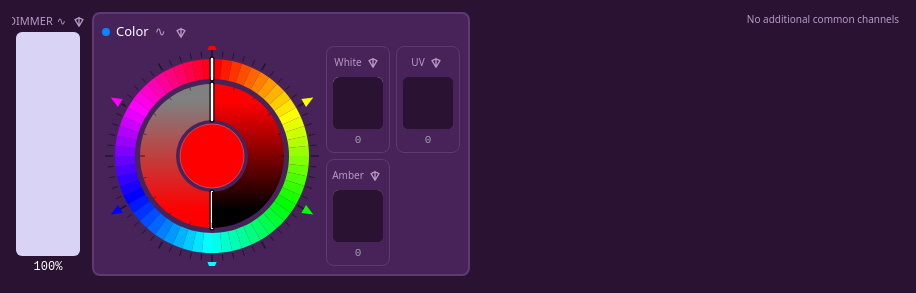
Test: Default colour (blue) and the Colour default menu › Set as Default stores the current colour, Load Default applies it, Reset Default restores blue
Later steps or results of the test are not shown.
Click the button named "Colour options" at (181, 32), box [172,23,190,41]
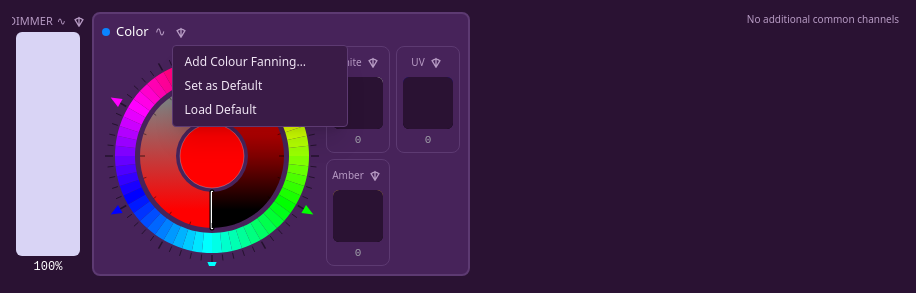
Expected: the menu item "Set as Default" is shown
Expected: the menu item "Load Default" is shown, [177,98,343,122]
Click the menu item "Set as Default" at (260, 86), box [177,74,343,98]
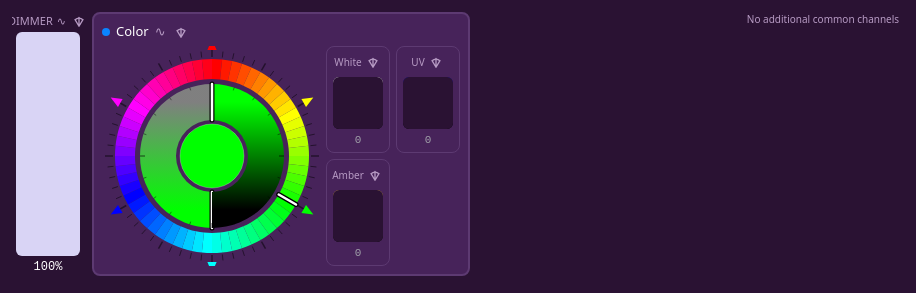
Click the button named "Colour options" at (181, 32), box [172,23,190,41]
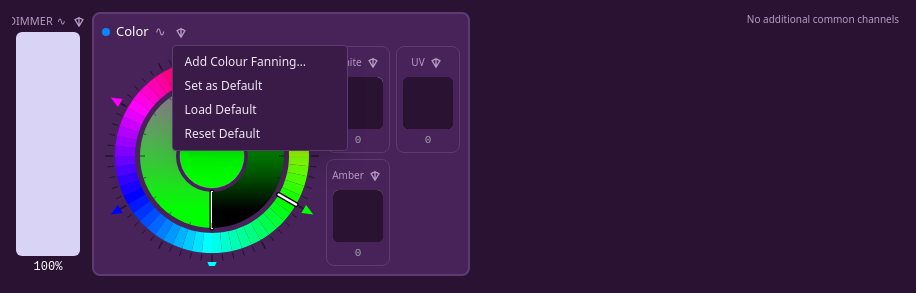
Expected: the menu item "Reset Default" is shown, [177,122,343,146]
